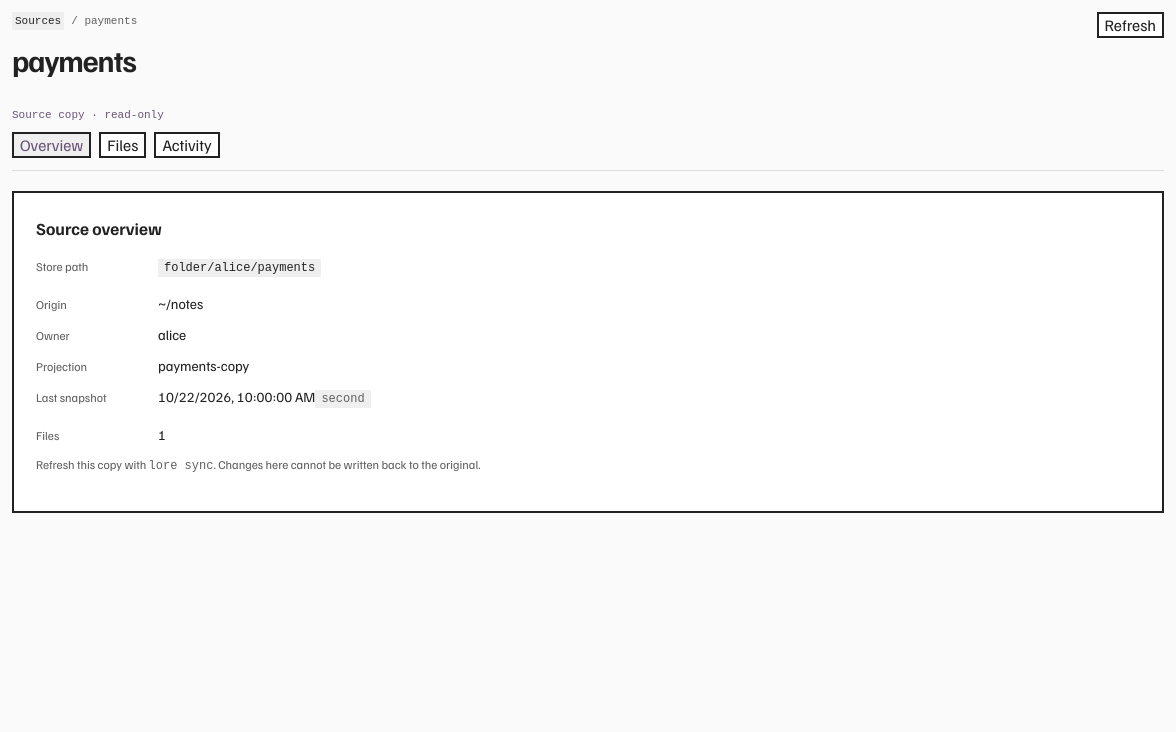
it: reads a latest source copy and its deletion history without offering mutations
Expected: the text "Source copy · read-only" is shown, x1=12 y1=109 x2=164 y2=121
Expected: the text "~/notes" is shown, x1=158 y1=295 x2=203 y2=312
Click the button "Files" at (123, 145), box x1=99 y1=132 x2=146 y2=158
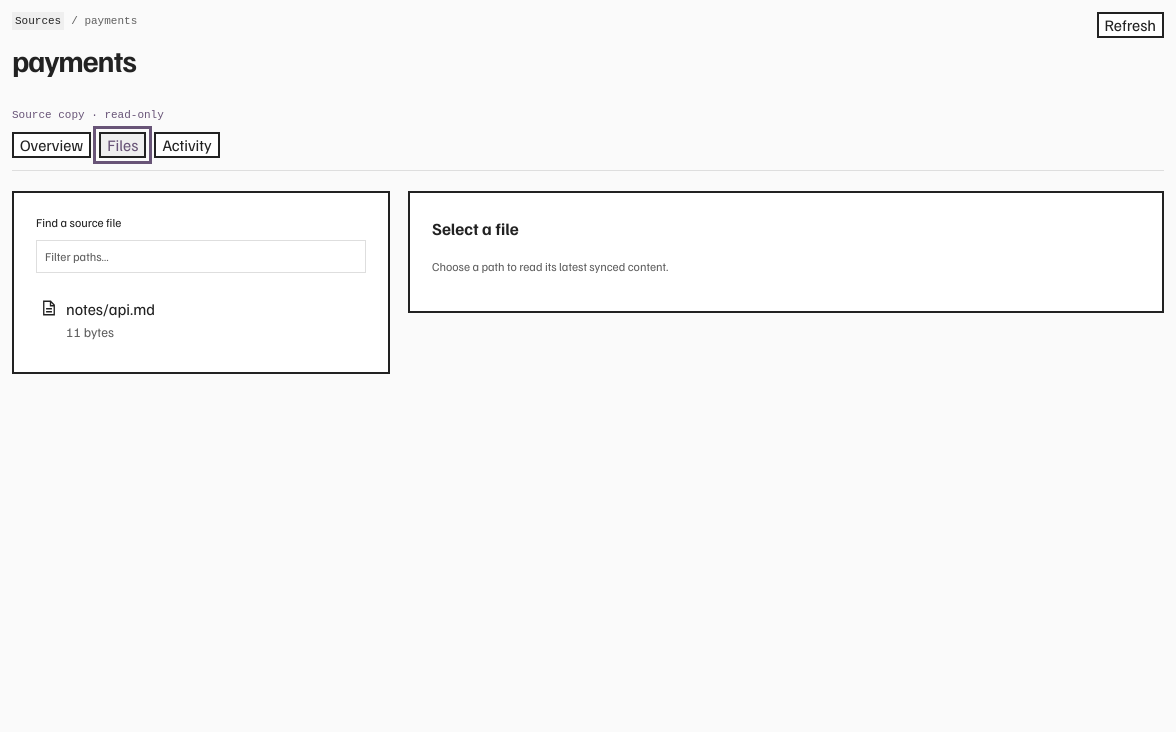
Type "api" into the search field at (201, 256), box x1=36 y1=240 x2=366 y2=273
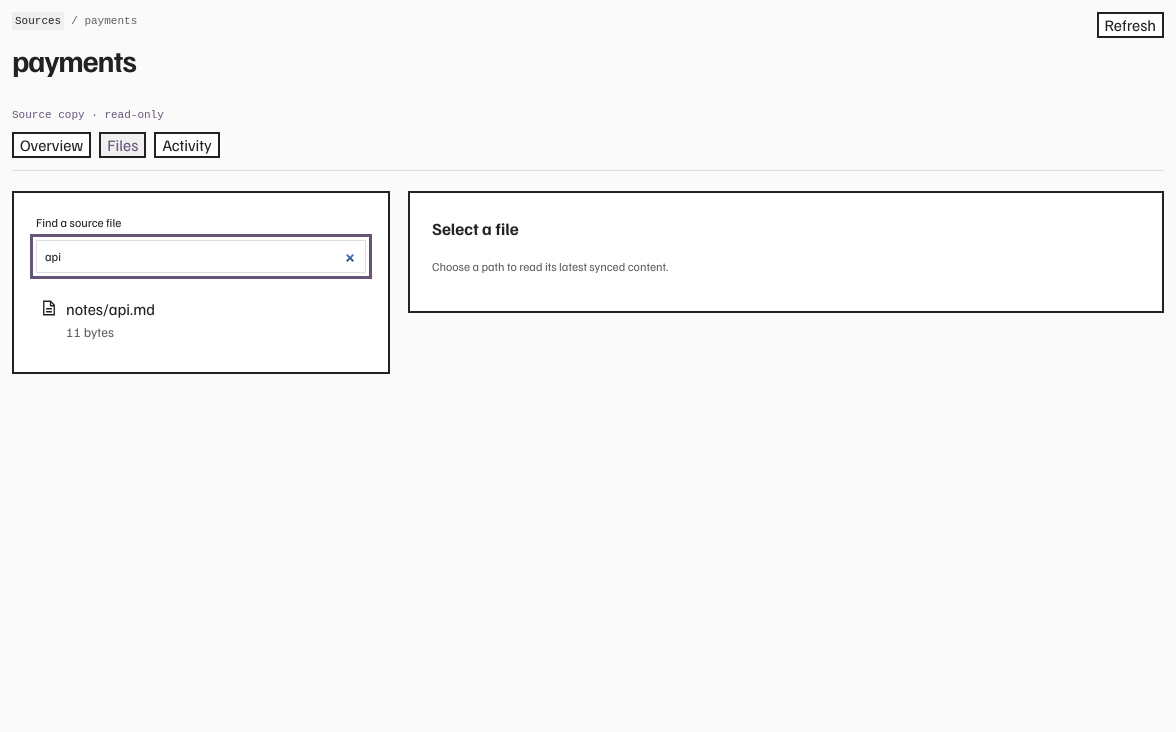
Click the button "notes/api.md 11 bytes" at (111, 309), box x1=36 y1=289 x2=366 y2=350
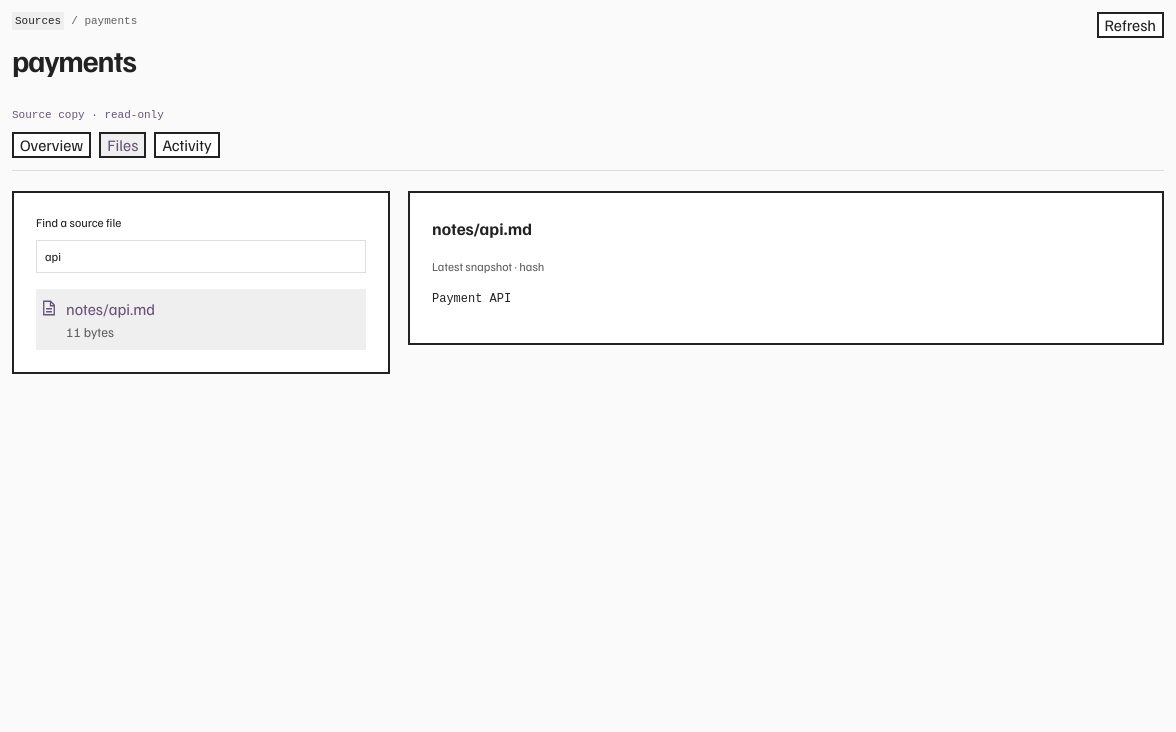
Now the text "Payment API" is shown, box x1=432 y1=292 x2=511 y2=306
Click the button "Activity" at (187, 145), box x1=154 y1=132 x2=220 y2=158
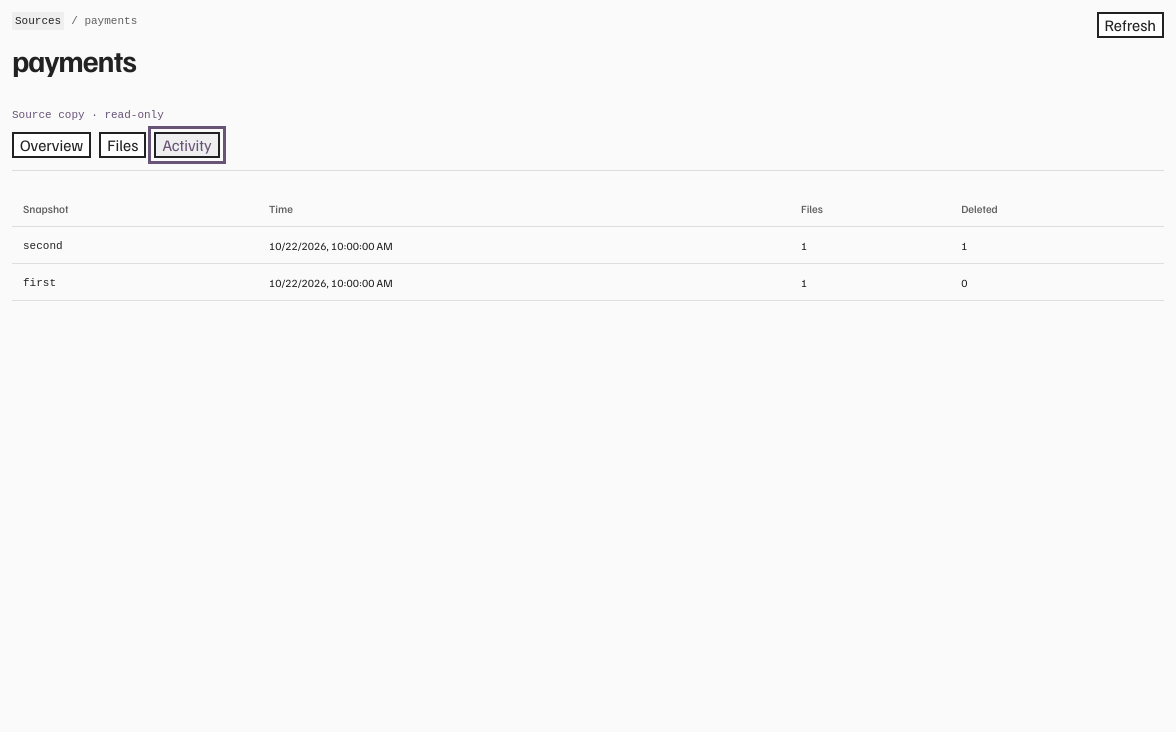
Now the text "first" is shown, box x1=23 y1=277 x2=56 y2=289
Now the text "second" is shown, box x1=23 y1=240 x2=63 y2=252
Now the column heading "Deleted" is shown, box x1=950 y1=191 x2=1164 y2=226
